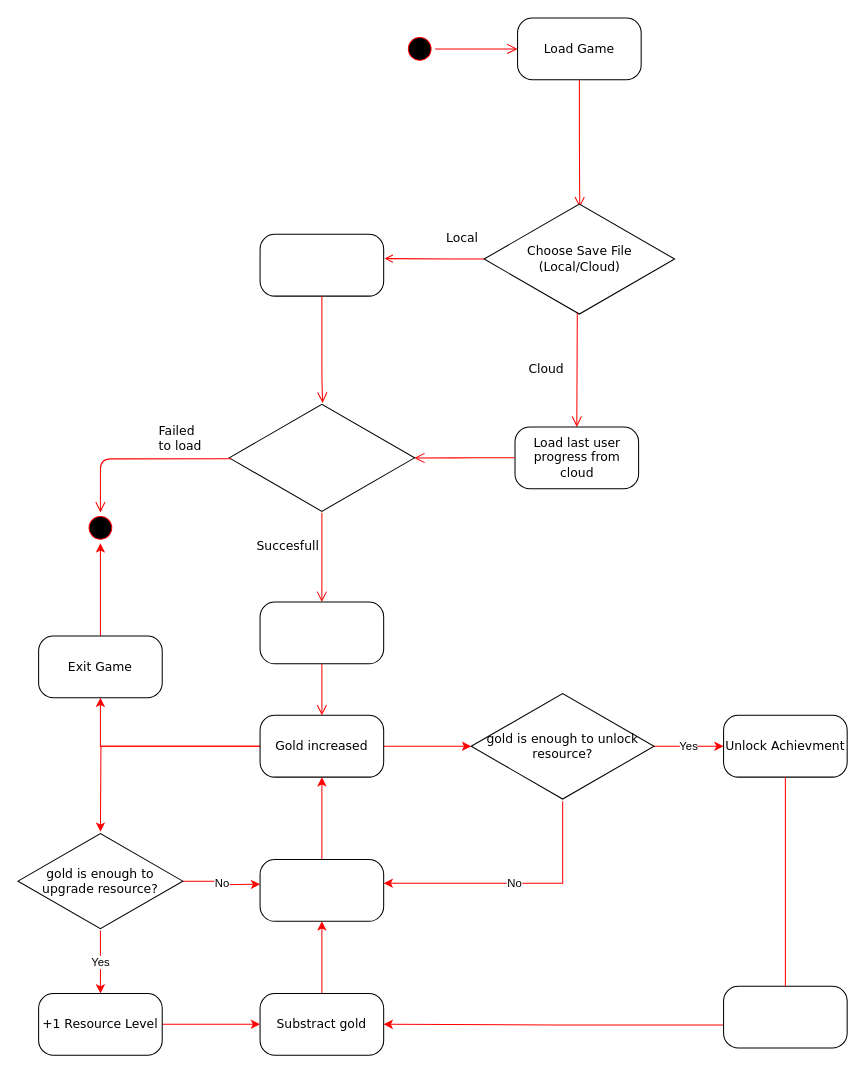
This 865x1073 diagram has some shape labels left out. The box of each missing label's shape, as (x1, y1, x2, y2) in pixels:
Auto Collect Resource Gold: (259, 601, 384, 664)
Load last user from local files: (259, 233, 384, 296)
Resource Unlocked: (723, 985, 847, 1048)
Success?: (228, 401, 415, 513)
Tap the screen: (259, 859, 384, 921)
